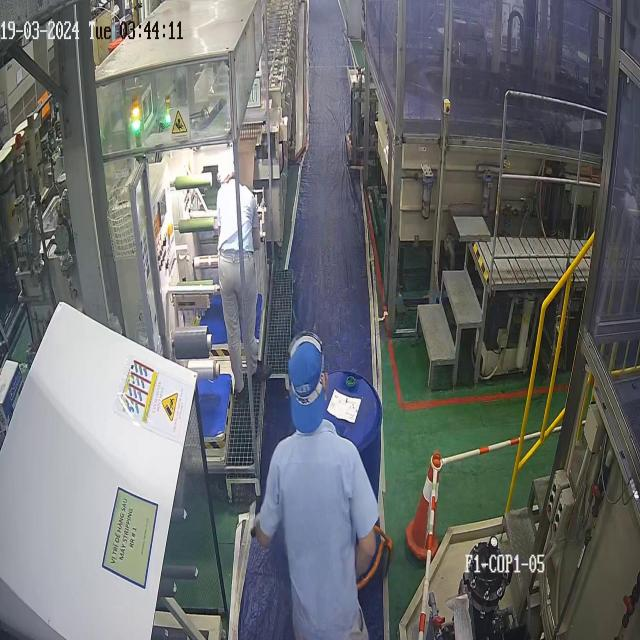Person: (251, 331, 380, 639), (214, 150, 262, 400)
